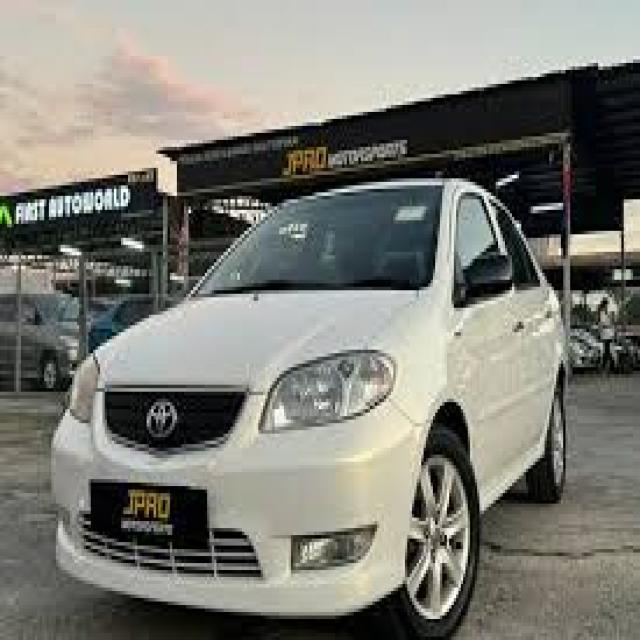ToyotaVios: (49, 172, 570, 636)
